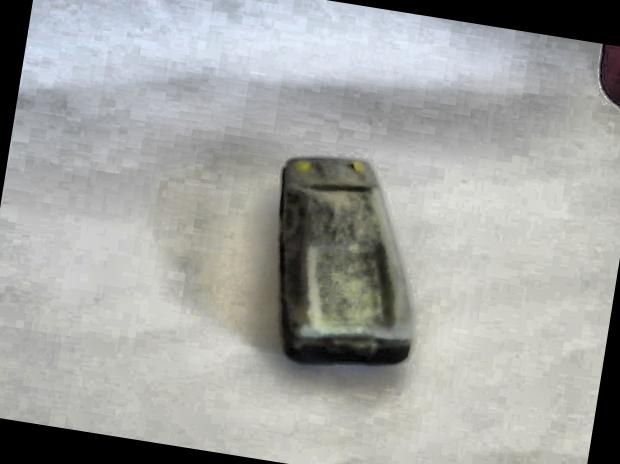normal_car: (249, 144, 444, 382)
